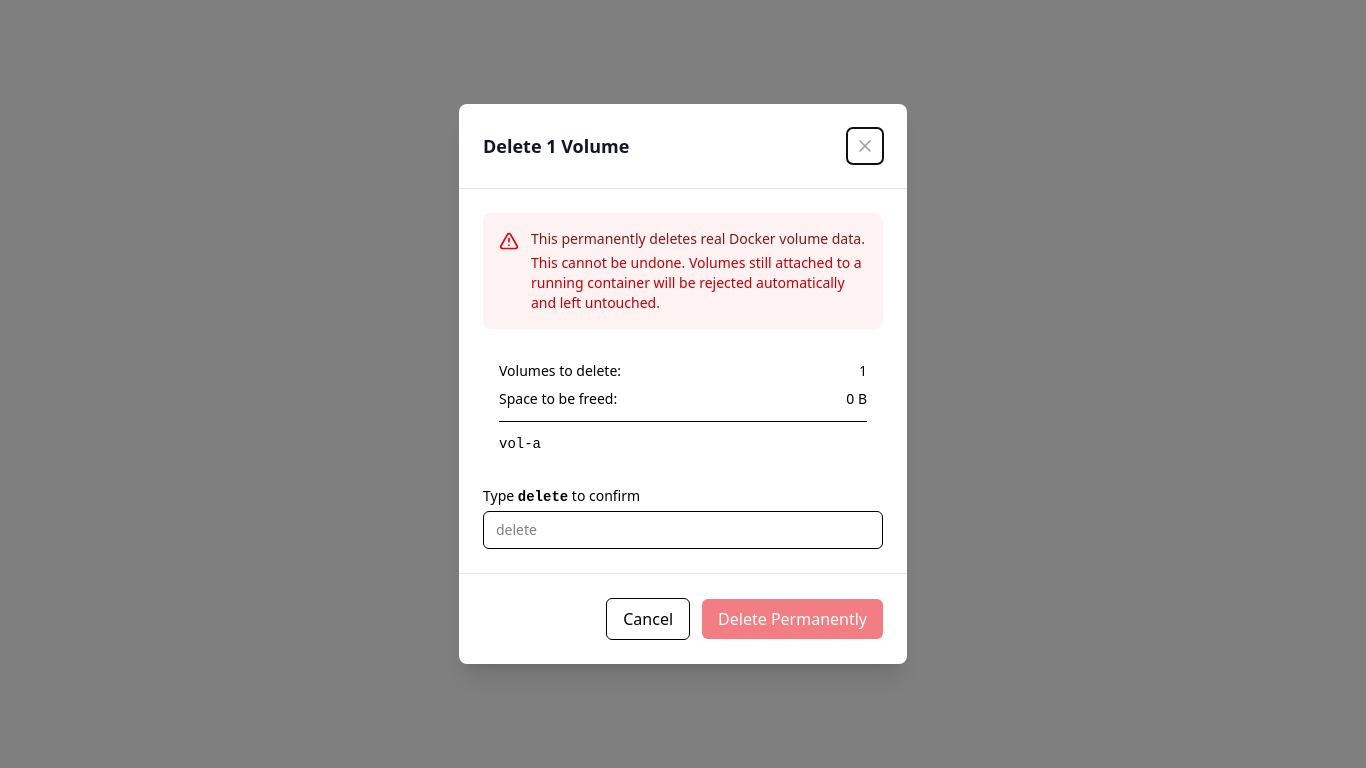
DeleteVolumeModal › accepts the confirmation word case-insensitively and trims whitespace
Type "  DELETE  " into the field labelled "Type delete to confirm".
click(683, 530); type("  DELETE  ")  # box [483,511,883,549]
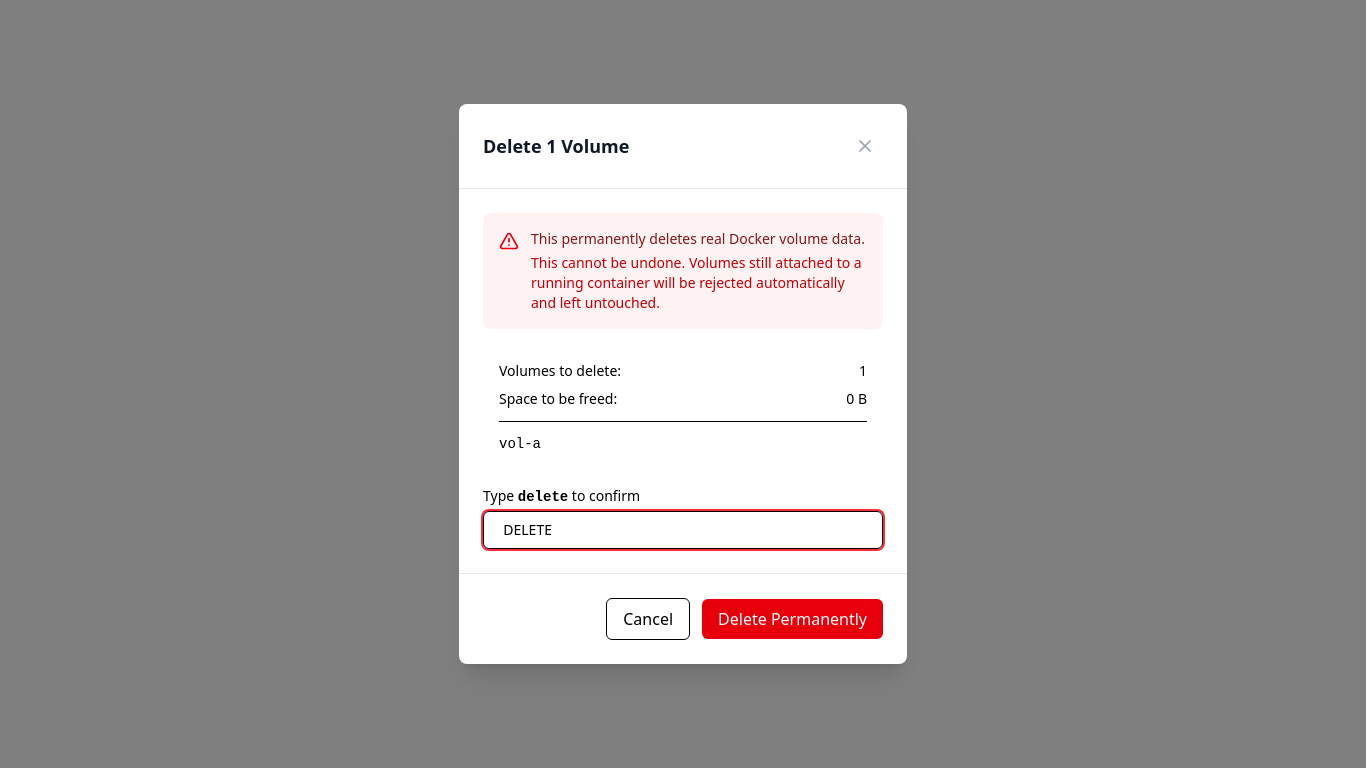
Now the button "Delete Permanently" is enabled, box [702,599,883,639]
